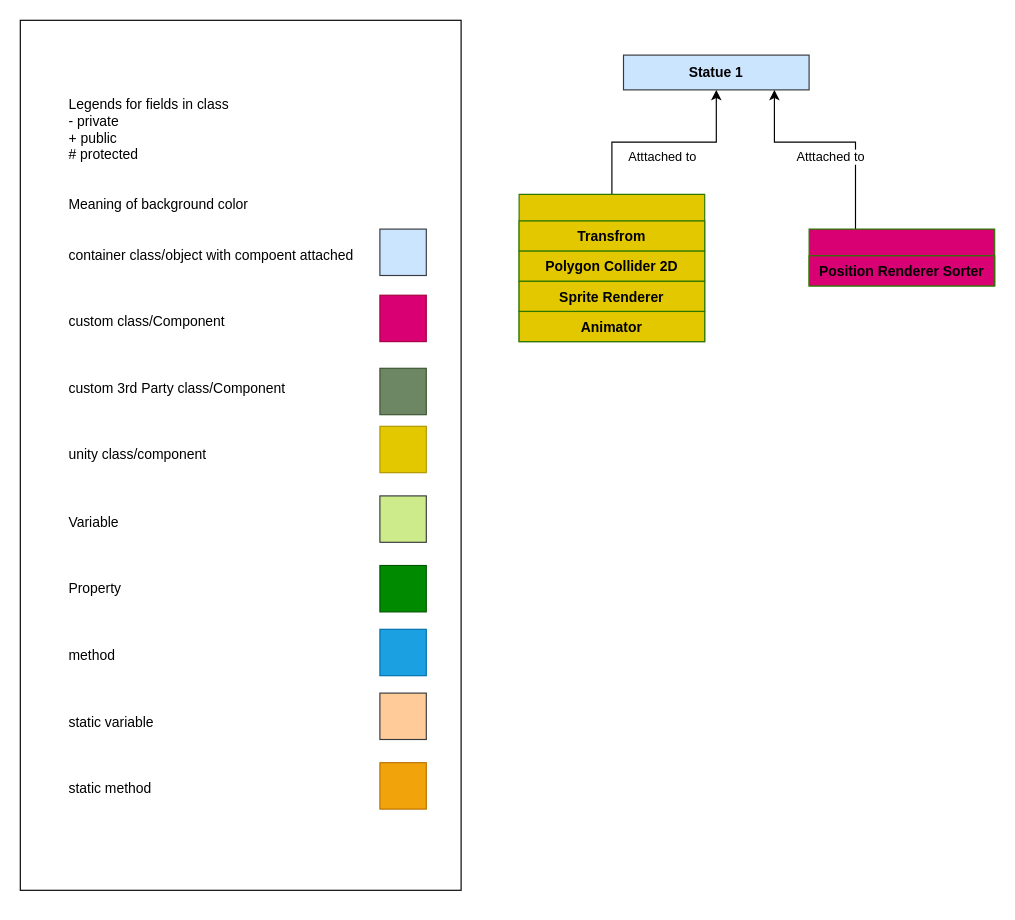
This 1015x920 diagram has some shape labels left out. The box of each missing label's shape, as (x1, y1, x2, y2) in pixels:
Custom Components: (808, 228, 995, 286)
Unity Components: (518, 193, 705, 342)
